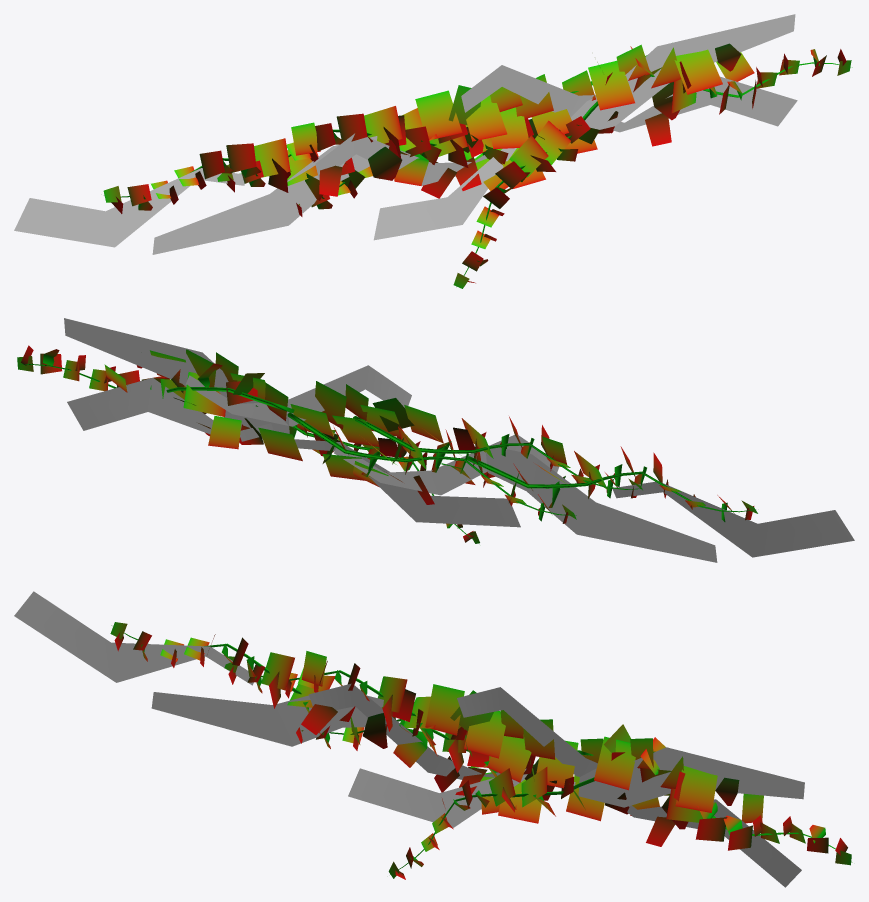
File: Var8_LOD3.fbx
3 views of the same model, one above another, from view 1: azimuth 30°, elevation 25°; view 2: azimuth 150°, elevation 25°; view 3: azimuth 330°, elevation 25° (orthographic).
Parts seen in each view (by area): view 1: _03ce_Var8_LOD3; view 2: _03ce_Var8_LOD3; view 3: _03ce_Var8_LOD3.
Part boxes in pixels (bbox=[...]): _03ce_Var8_LOD3: bbox=[14, 14, 852, 288]; _03ce_Var8_LOD3: bbox=[17, 318, 854, 562]; _03ce_Var8_LOD3: bbox=[14, 591, 852, 887].
Bounding box in the file's own units: 132 × 27.58 × 15.05.
